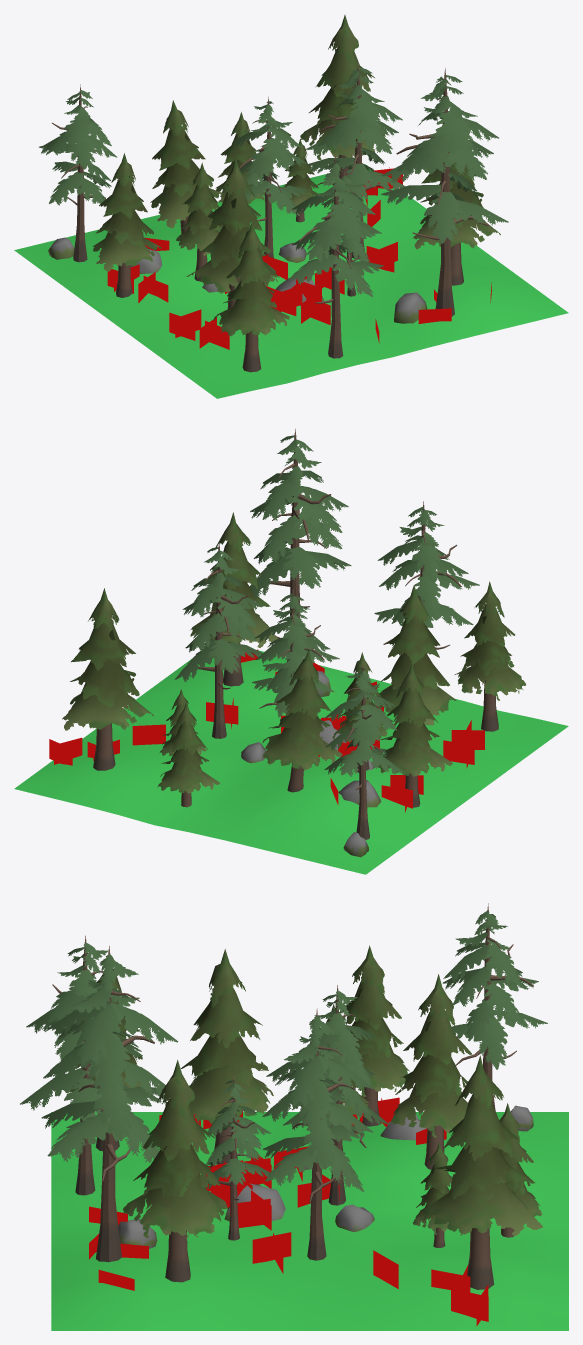
The model's file is ForestAlt2.fbx.
3 renders of one model, top to bottom at view 1: azimuth 30°, elevation 25°; view 2: azimuth 150°, elevation 25°; view 3: azimuth 270°, elevation 25°, orthographic. The views are drawn at different scales.
Parts seen in each view (by area): view 1: polySurface380; view 2: polySurface380; view 3: polySurface380.
Boxes of the visible parts, left/top/right/bottom form: polySurface380: left=14, top=15, right=568, bottom=398; polySurface380: left=14, top=428, right=568, bottom=874; polySurface380: left=20, top=903, right=568, bottom=1330.
Bounding box in the file's own units: 1.02 × 0.791 × 1.07.
